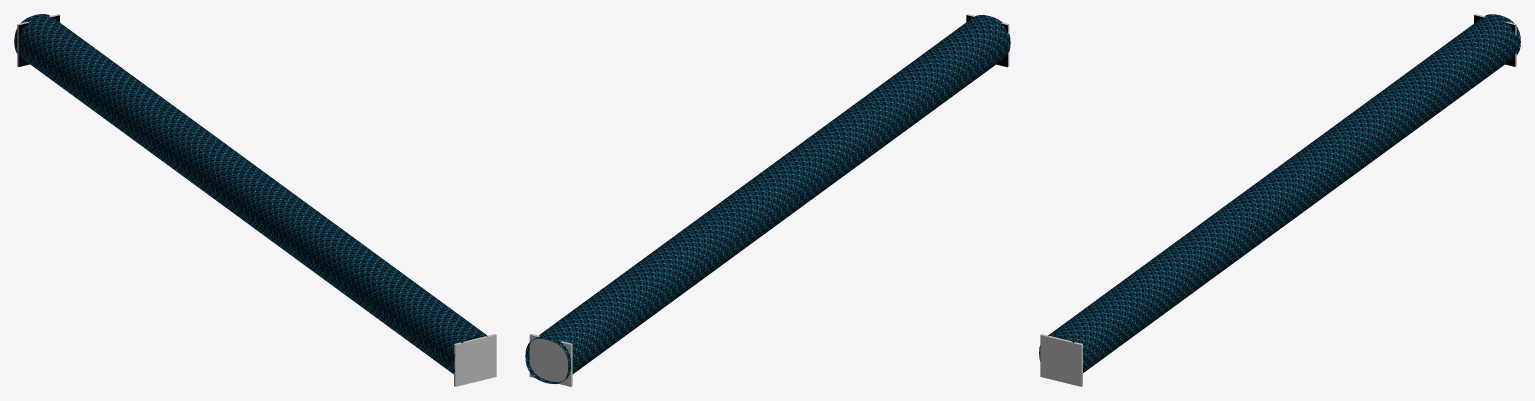
Rendered from teleporter-tunnel.obj.
The picture shows the model from 3 angles, left to right: view 1: azimuth 30°, elevation 25°; view 2: azimuth 150°, elevation 25°; view 3: azimuth 330°, elevation 25°; orthographic projection.
Parts seen in each view (by area): view 1: entity0_patch0, entity0_brush1; view 2: entity0_patch0, entity0_brush2; view 3: entity0_patch0, entity0_brush1.
Boxes of the visible parts, x1=… form: entity0_patch0: x1=14, y1=14, x2=487, y2=374; entity0_brush1: x1=454, y1=334, x2=496, y2=386; entity0_patch0: x1=525, y1=15, x2=1010, y2=383; entity0_brush2: x1=529, y1=333, x2=572, y2=386; entity0_patch0: x1=1039, y1=14, x2=1520, y2=372; entity0_brush1: x1=1040, y1=334, x2=1082, y2=386.
Size of the model in its own units: 272 by 276 by 4864.
